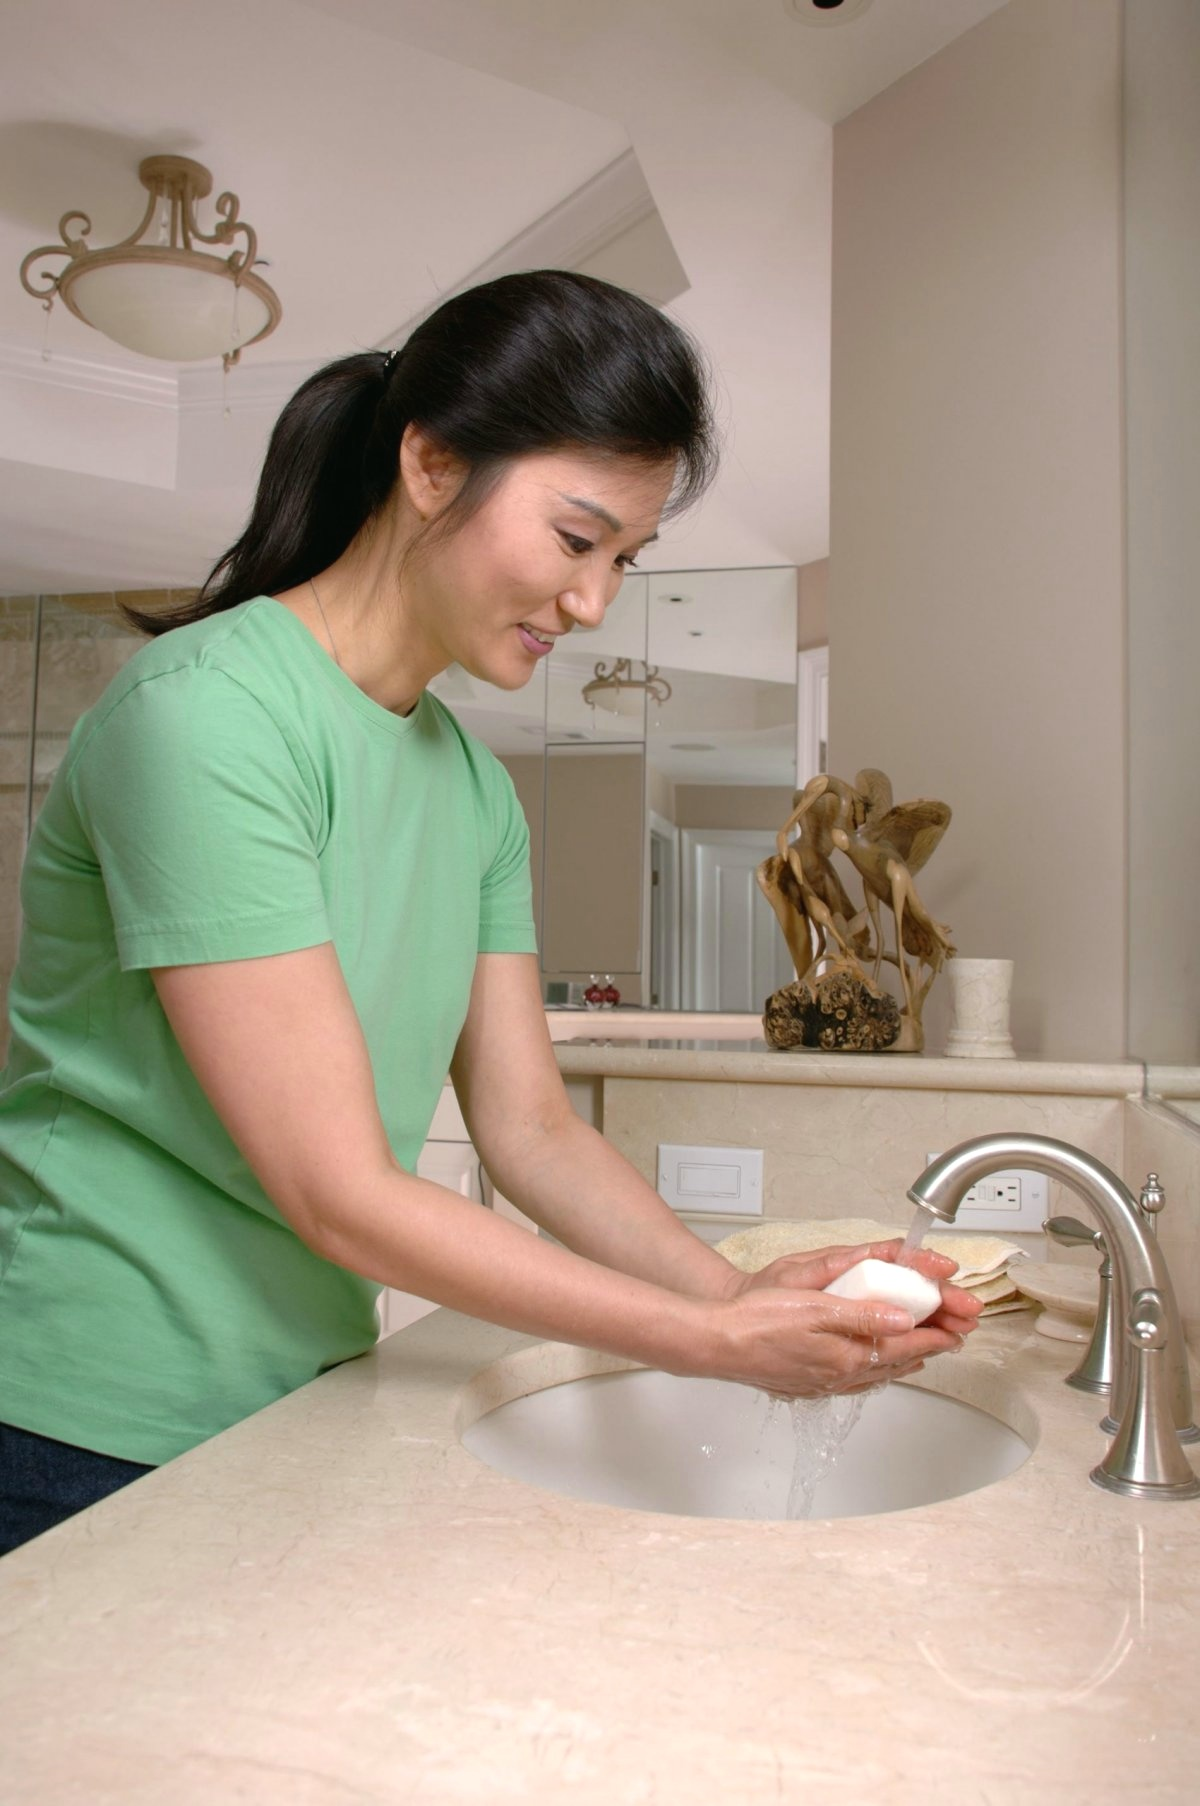washing hand: (702, 1071, 1176, 1502)
